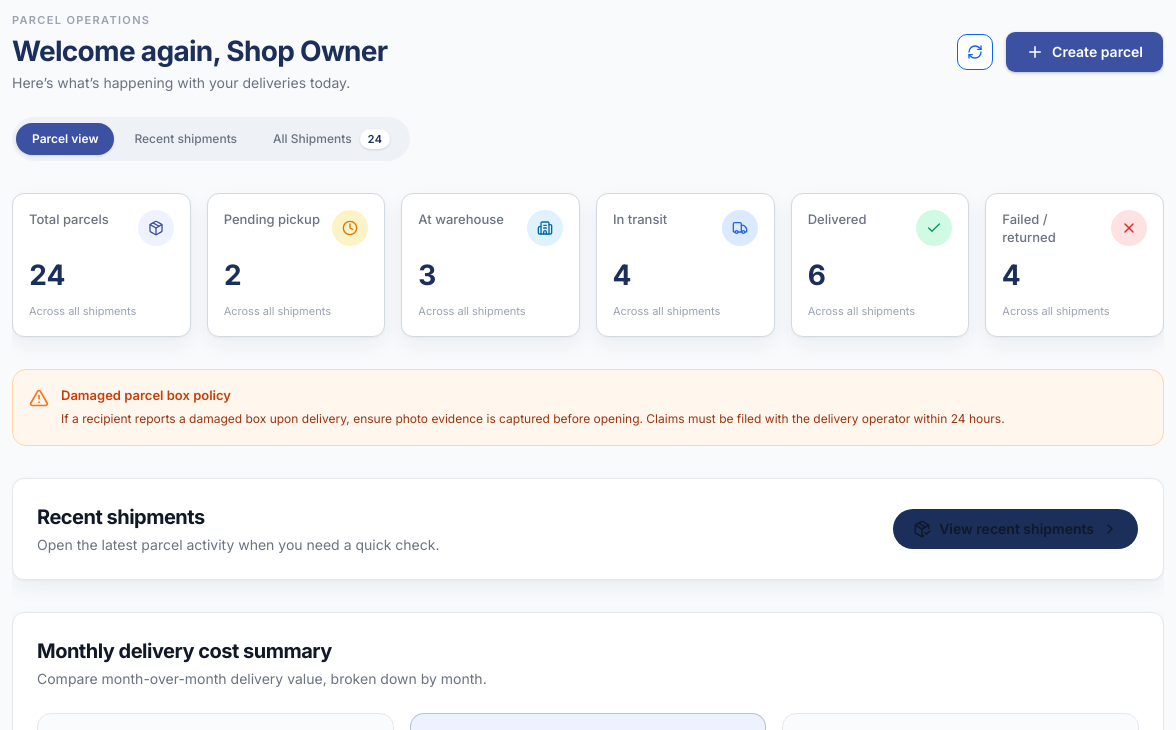
Test case: SME dashboard › switches between the parcel view and recent shipments
Expected: the heading "Welcome again, Shop Owner" is shown, [12,32,387,68]
Expected: the element named "Parcel metrics" is shown, [12,192,1164,336]
Click the button "Recent shipments" at (186, 138), box [118,122,253,154]
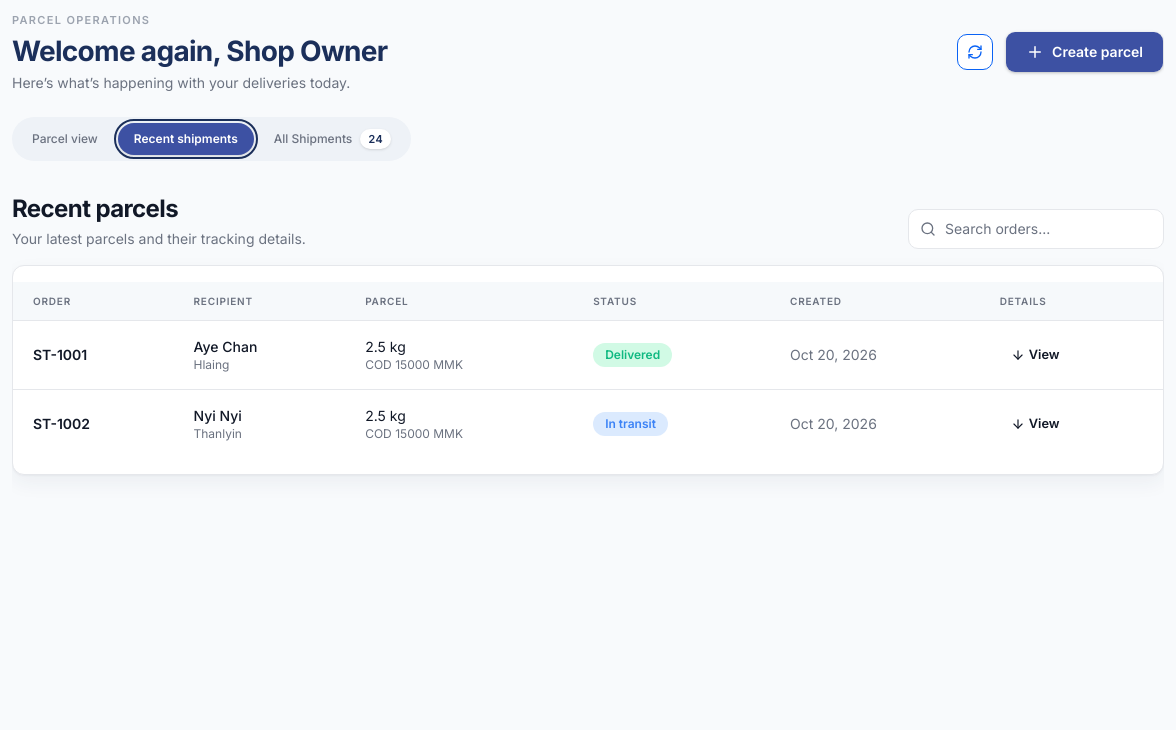
Expected: the table named "Recent parcels" is shown, [13,282,1163,458]
Expected: the heading "Monthly delivery cost summary" is gone
